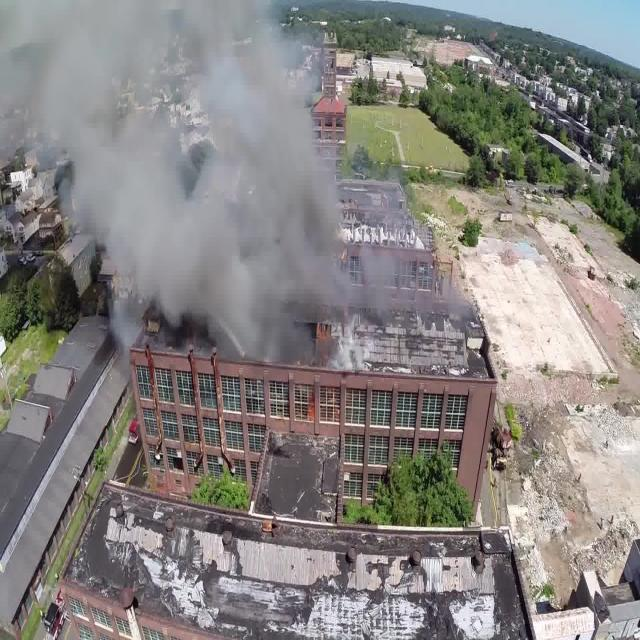Smoke: (0, 0, 390, 372)
